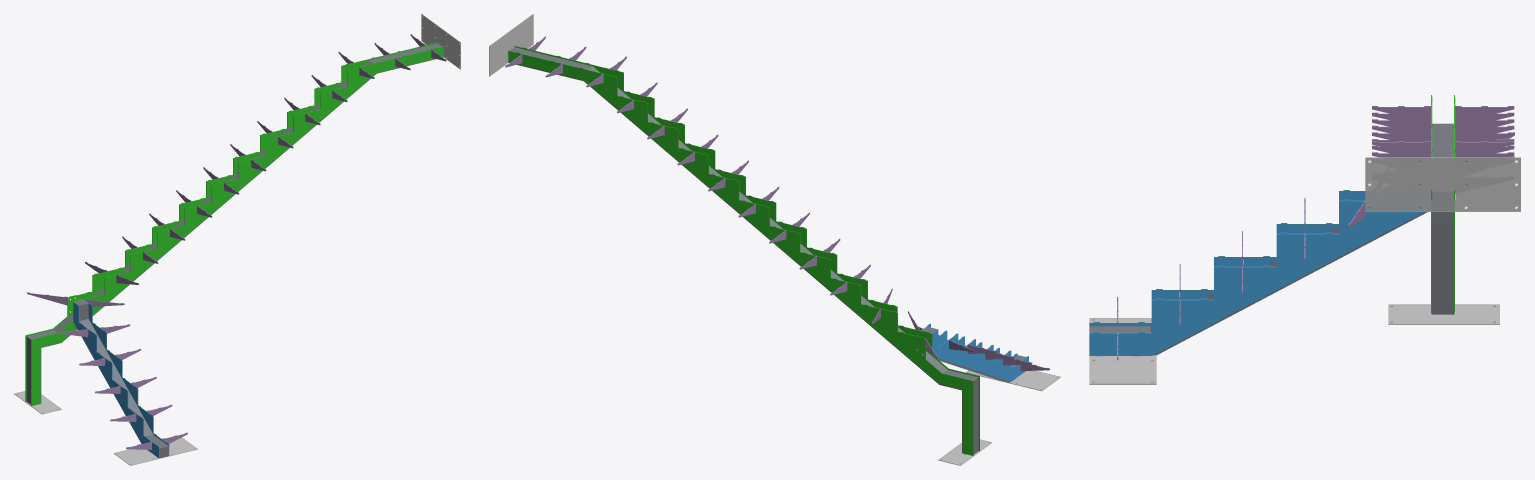
The model's file is stadia1.glb.
3 renders of one model, left to right at view 1: azimuth 30°, elevation 25°; view 2: azimuth 150°, elevation 25°; view 3: azimuth 270°, elevation 25°, orthographic. The views are drawn at different scales.
Parts seen in each view (by area): view 1: Косоур_БП, Косоур_БЛ.001, Труба_100_100_Б, Косоур_МЛ, Труба_100_100_М, Опора_верх.003, Косоур_МП, Опора_низ; view 2: Косоур_БЛ.001, Косоур_БП, Труба_100_100_Б, Косоур_МЛ, Опора_верх.003, Опора_низ; view 3: Косоур_МП, Опора_верх.003, Труба_100_100_Б, Косоур_МЛ, Опора_низ, Опора_сер.004, Труба_100_100_М, instance_3, instance_4, instance_2, instance_1.
Boxes of the visible parts, bbox=[...] form: Косоур_БП: bbox=[31, 46, 443, 405]; Косоур_БЛ.001: bbox=[25, 42, 438, 401]; Труба_100_100_Б: bbox=[26, 43, 443, 404]; Косоур_МЛ: bbox=[73, 302, 159, 457]; Труба_100_100_М: bbox=[74, 300, 168, 458]; Опора_верх.003: bbox=[421, 14, 460, 69]; Косоур_МП: bbox=[84, 300, 169, 455]; Опора_низ: bbox=[113, 437, 197, 465]; Косоур_БЛ.001: bbox=[508, 50, 973, 455]; Косоур_БП: bbox=[514, 46, 979, 451]; Труба_100_100_Б: bbox=[508, 47, 978, 454]; Косоур_МЛ: bbox=[931, 329, 1028, 381]; Опора_верх.003: bbox=[489, 14, 533, 76]; Опора_низ: bbox=[966, 370, 1060, 391]; Косоур_МП: bbox=[1089, 199, 1423, 355]; Опора_верх.003: bbox=[1365, 157, 1520, 211]; Труба_100_100_Б: bbox=[1432, 123, 1453, 314]; Косоур_МЛ: bbox=[1089, 190, 1365, 326]; Опора_низ: bbox=[1089, 318, 1156, 384]; Опора_сер.004: bbox=[1388, 304, 1499, 324]; Труба_100_100_М: bbox=[1089, 212, 1427, 355]; instance_3: bbox=[1455, 141, 1514, 157]; instance_4: bbox=[1372, 141, 1430, 157]; instance_2: bbox=[1455, 106, 1514, 123]; instance_1: bbox=[1372, 106, 1430, 123].
Bounding box in the file's own units: 4.36 × 2.78 × 1.97.
